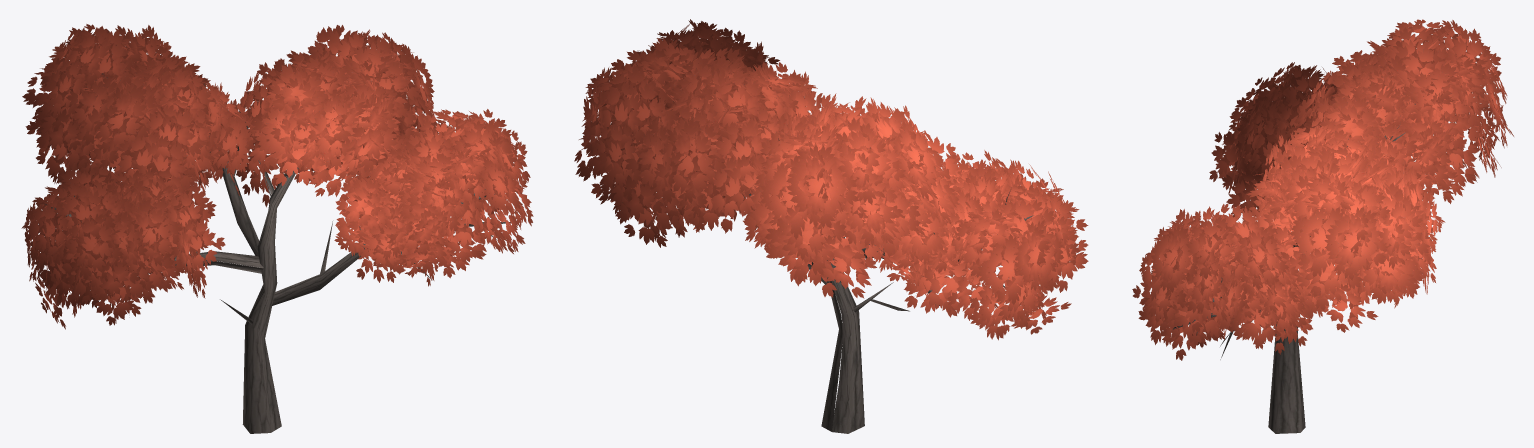
The model's file is mapletree_3.glb.
3 renders of one model, left to right at view 1: azimuth 30°, elevation 25°; view 2: azimuth 150°, elevation 25°; view 3: azimuth 270°, elevation 25°, orthographic. The views are drawn at different scales.
Parts seen in each view (by area): view 1: MapleTree_3; view 2: MapleTree_3; view 3: MapleTree_3.
Part boxes in pixels (x1,y1,x2,y2): MapleTree_3: (21,24,533,433); MapleTree_3: (574,19,1088,433); MapleTree_3: (1132,19,1513,433).
Size of the model in its own units: 8.98 by 6.99 by 6.61.
2 materials, 2 textured.
